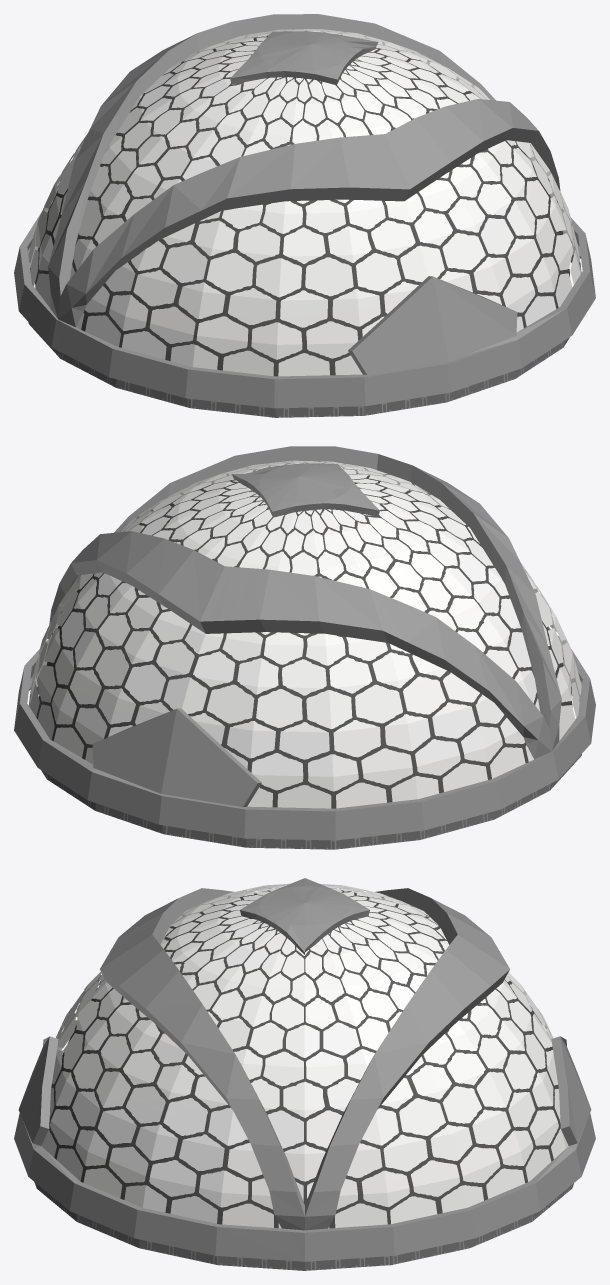
Rendered from silver.fbx.
3 views of the same model, one above another, from view 1: azimuth 30°, elevation 25°; view 2: azimuth 150°, elevation 25°; view 3: azimuth 270°, elevation 25° (orthographic).
Parts seen in each view (by area): view 1: polySurface89, polySurface92; view 2: polySurface89, polySurface92; view 3: polySurface89, polySurface92.
Boxes of the visible parts, bbox=[...] form: polySurface89: bbox=[14, 14, 595, 417]; polySurface92: bbox=[35, 35, 569, 376]; polySurface89: bbox=[14, 446, 595, 849]; polySurface92: bbox=[36, 473, 572, 808]; polySurface89: bbox=[14, 878, 595, 1270]; polySurface92: bbox=[49, 890, 560, 1228].
Size of what is drawn, in the model's own units: 2.03 by 1.02 by 2.03.
